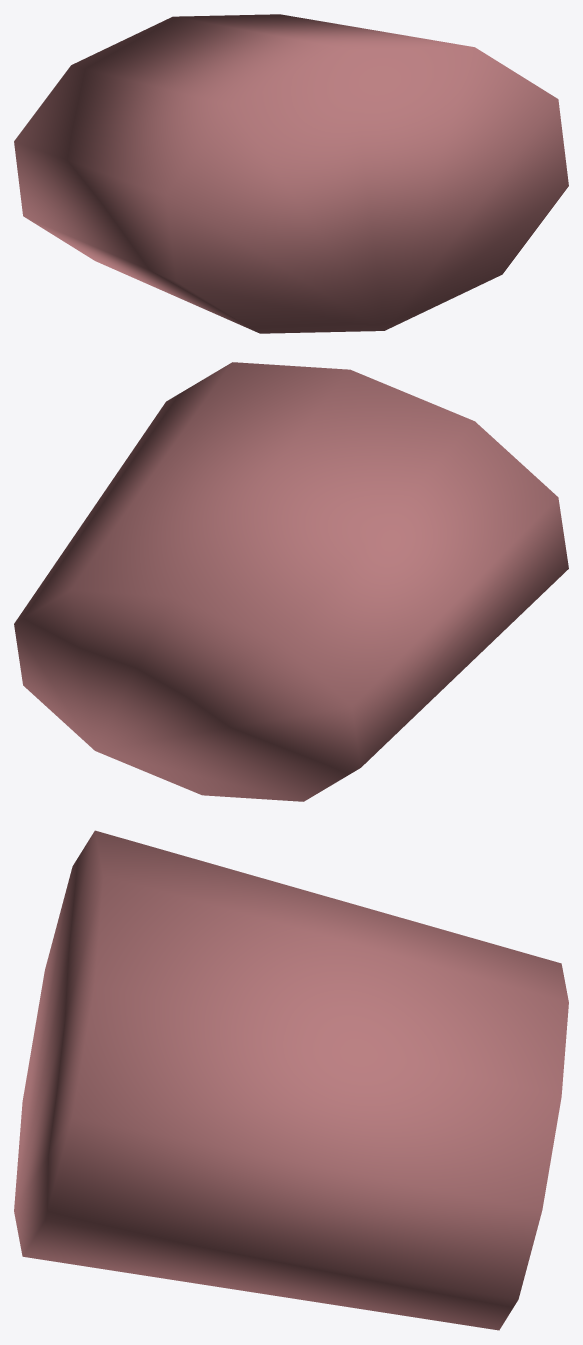
The model's file is SM_W02_Climber_Abdomen.fbx.
3 views of the same model, one above another, from view 1: azimuth 30°, elevation 25°; view 2: azimuth 150°, elevation 25°; view 3: azimuth 270°, elevation 25° (orthographic). The views are drawn at different scales.
Visible parts, largest first — view 1: SM_W02_Climber_Abdomen; view 2: SM_W02_Climber_Abdomen; view 3: SM_W02_Climber_Abdomen.
Boxes of the visible parts, left/top/right/bottom form: SM_W02_Climber_Abdomen: left=14, top=14, right=568, bottom=333; SM_W02_Climber_Abdomen: left=14, top=362, right=568, bottom=801; SM_W02_Climber_Abdomen: left=14, top=830, right=568, bottom=1330.
Bounding box in the file's own units: 0.6848 × 0.6404 × 0.5289.
